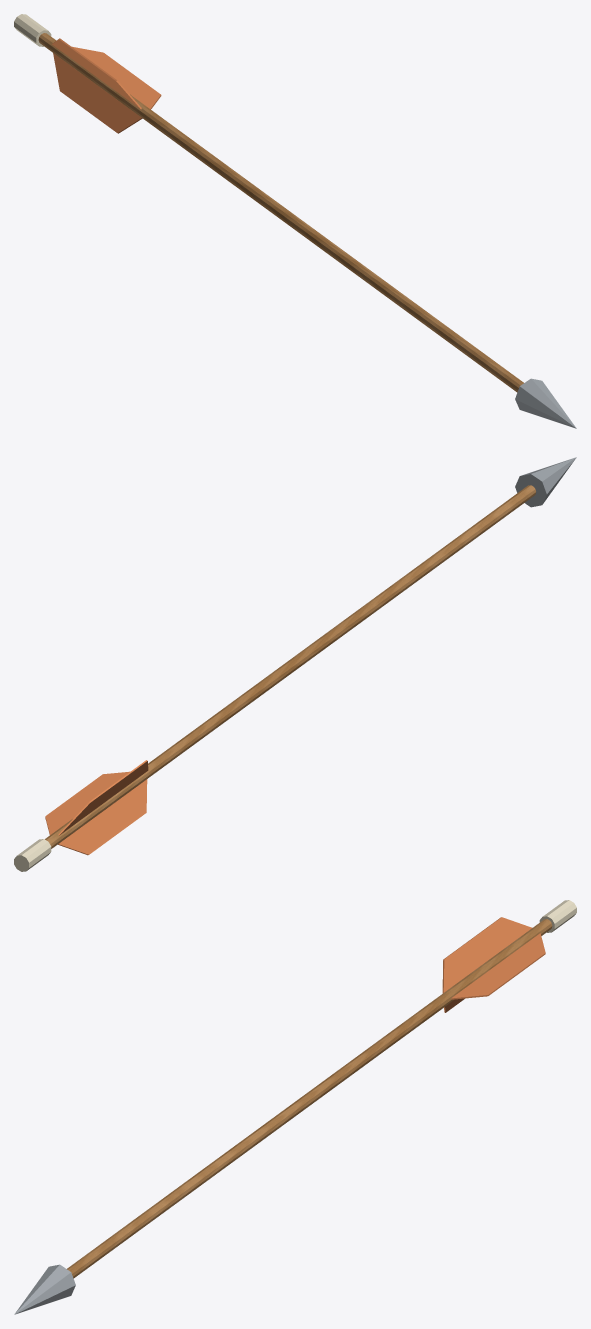
Rendered from arrow.glb.
The picture shows the model from 3 angles, top to bottom: view 1: azimuth 30°, elevation 25°; view 2: azimuth 150°, elevation 25°; view 3: azimuth 330°, elevation 25°; orthographic projection.
Visible parts, largest first — view 1: SM_ArrowShaft, SM_Fletching.002, SM_ArrowHead, SM_Fletching, SM_Fletching.001, SM_Nock; view 2: SM_ArrowShaft, SM_Fletching.002, SM_Fletching, SM_ArrowHead, SM_Fletching.001, SM_Nock; view 3: SM_ArrowShaft, SM_Fletching.001, SM_Fletching, SM_ArrowHead, SM_Nock.
Part boxes in pixels (x1,y1,x2,y2): SM_ArrowShaft: (38, 33, 523, 392); SM_Fletching.002: (53, 53, 142, 133); SM_ArrowHead: (515, 378, 576, 428); SM_Fletching: (72, 46, 161, 109); SM_Fletching.001: (52, 38, 141, 109); SM_Nock: (14, 14, 51, 46); SM_ArrowShaft: (45, 485, 535, 848); SM_Fletching.002: (58, 779, 147, 855); SM_Fletching: (45, 771, 129, 834); SM_ArrowHead: (515, 457, 576, 507); SM_Fletching.001: (58, 760, 148, 835); SM_Nock: (14, 839, 51, 871); SM_ArrowShaft: (67, 919, 552, 1278); SM_Fletching.001: (442, 917, 532, 993); SM_Fletching: (451, 933, 545, 999); SM_ArrowHead: (14, 1264, 75, 1314); SM_Nock: (539, 900, 576, 932).
Bounding box in the file's own units: 0.034 × 0.0386 × 0.724.
4 materials, 1 textured.
